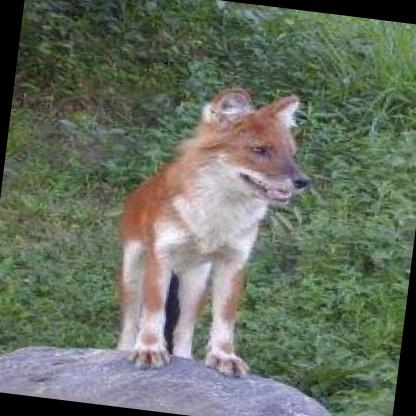dhole: (98, 73, 318, 378)
